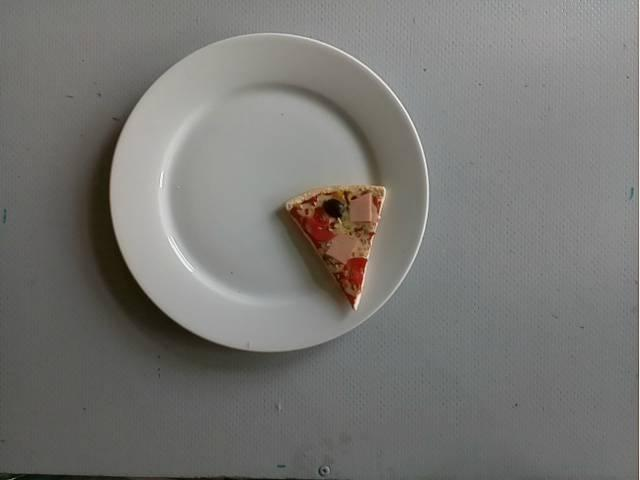Pizza slice (ham): (291, 183, 384, 311)
